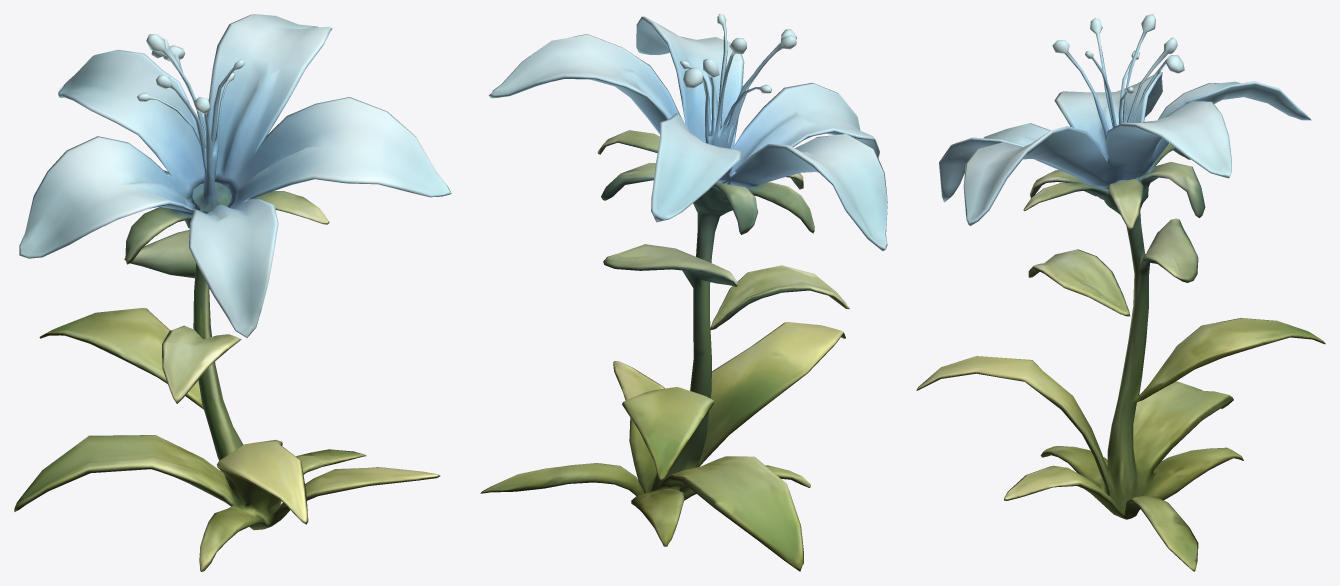
File: Ending_Flowr_Final.fbx
The picture shows the model from 3 angles, left to right: view 1: azimuth 30°, elevation 25°; view 2: azimuth 150°, elevation 25°; view 3: azimuth 270°, elevation 25°; orthographic projection. The views are drawn at different scales.
Parts seen in each view (by area): view 1: tripo_node_efc9fe4d; view 2: tripo_node_efc9fe4d; view 3: tripo_node_efc9fe4d.
Boxes of the visible parts, x1,y1,x2,y2 form: tripo_node_efc9fe4d: (14, 14, 451, 571); tripo_node_efc9fe4d: (480, 14, 887, 571); tripo_node_efc9fe4d: (916, 14, 1325, 571).
Bounding box in the file's own units: 78.32 × 81.05 × 99.8.
